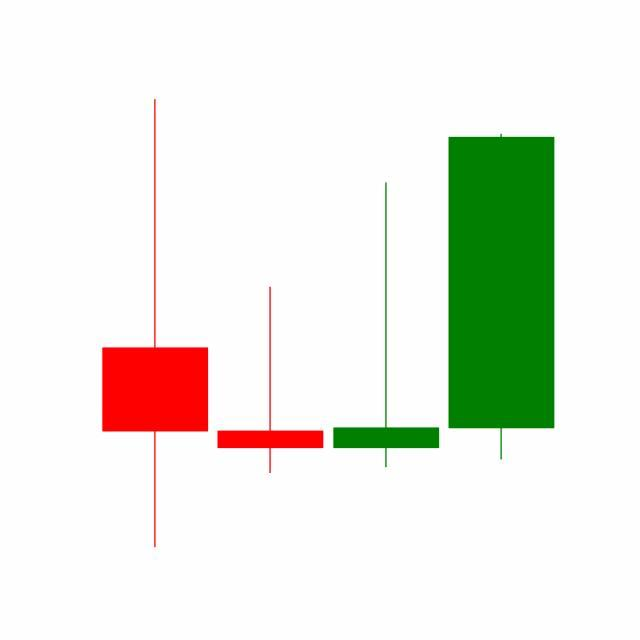Gravestone Doji: (329, 180, 445, 471)
